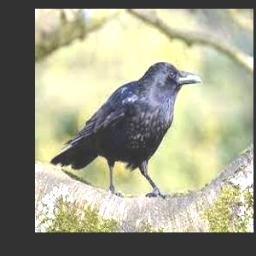Crow: (50, 62, 202, 198)
